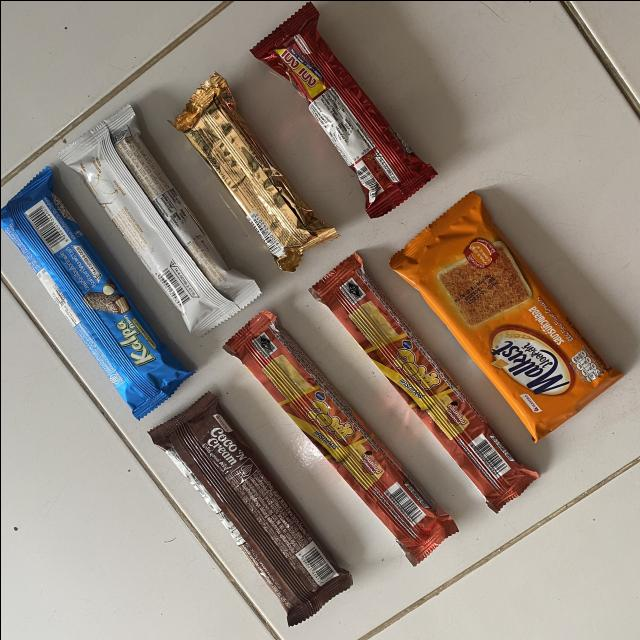plastik: (224, 309, 457, 564), (310, 253, 538, 511), (389, 192, 621, 441), (0, 166, 192, 418), (149, 392, 351, 624), (58, 104, 260, 334), (251, 1, 436, 216), (173, 72, 337, 271)
